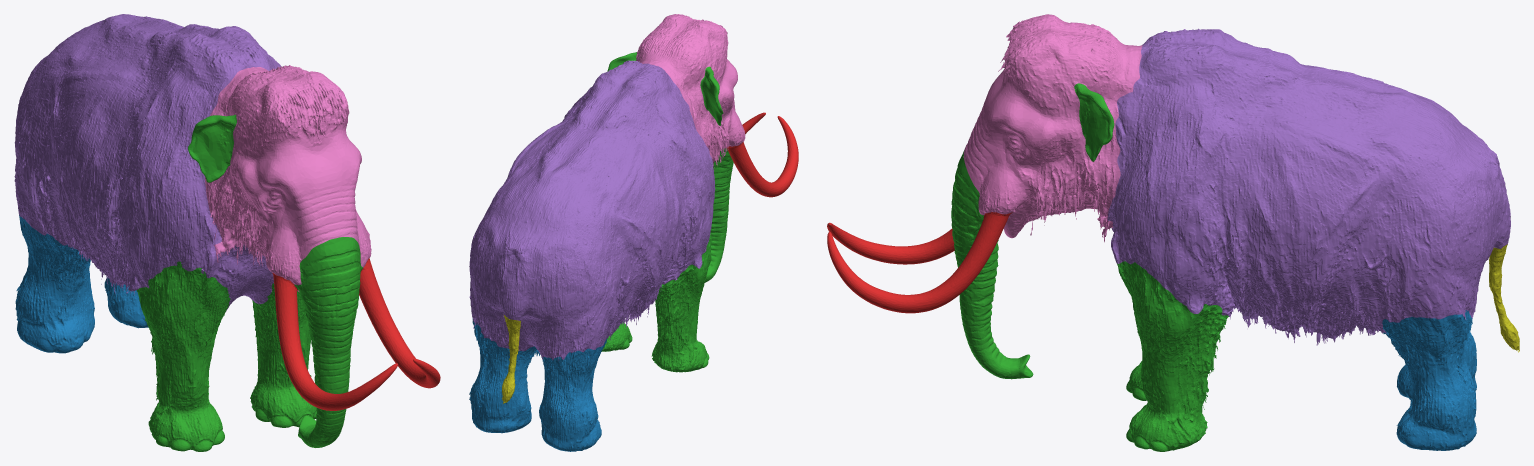
Rendered from SubdiviedModelMammoth.glb.
3 renders of one model, left to right at view 1: azimuth 30°, elevation 25°; view 2: azimuth 150°, elevation 25°; view 3: azimuth 270°, elevation 25°, orthographic. The views are drawn at different scales.
Parts seen in each view (by area): view 1: model_part0, model_part10, model_part1, model_part2, model_part9, model_part5, model_part7, model_part8, model_part3; view 2: model_part0, model_part2, model_part10, model_part1, model_part7, model_part9, model_part4, model_part3, model_part5; view 3: model_part0, model_part10, model_part5, model_part2, model_part9, model_part8, model_part7, model_part6, model_part4.
Boxes of the visible parts, x1,y1,x2,y2 form: model_part0: (14,14,281,311); model_part10: (205,65,371,291); model_part1: (137,261,230,451); model_part2: (15,215,148,353); model_part9: (294,237,362,447); model_part5: (250,283,316,427); model_part7: (272,273,397,410); model_part8: (359,258,440,388); model_part3: (188,114,236,182); model_part0: (469,60,715,360); model_part2: (469,318,607,451); model_part10: (636,14,745,169); model_part1: (651,233,711,372); model_part7: (727,116,798,197); model_part9: (704,148,733,282); model_part4: (502,315,520,403); model_part3: (700,66,723,125); model_part5: (601,321,632,351); model_part0: (1107,28,1510,345); model_part10: (963,14,1142,242); model_part5: (1117,260,1228,451); model_part2: (1380,310,1476,450); model_part9: (951,150,1033,379); model_part8: (827,212,1012,313); model_part7: (827,222,954,264); model_part6: (1074,83,1114,161); model_part4: (1489,244,1519,352).
Size of the model in its own units: 0.0403 by 0.0752 by 0.12.
